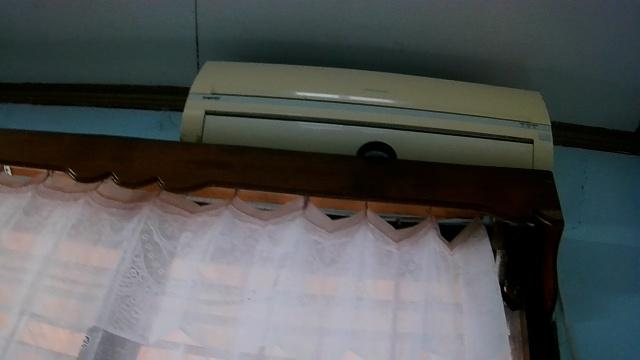AC: (176, 59, 553, 172)
